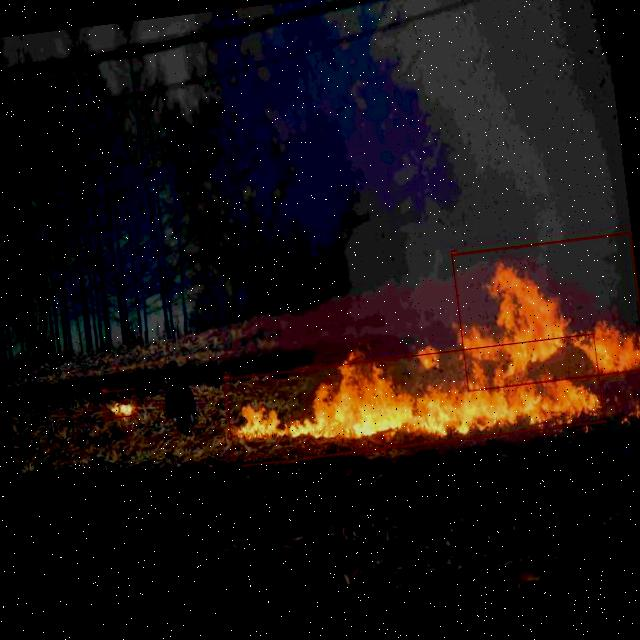fire: (223, 332, 604, 468), (451, 231, 640, 390), (101, 387, 138, 419)
